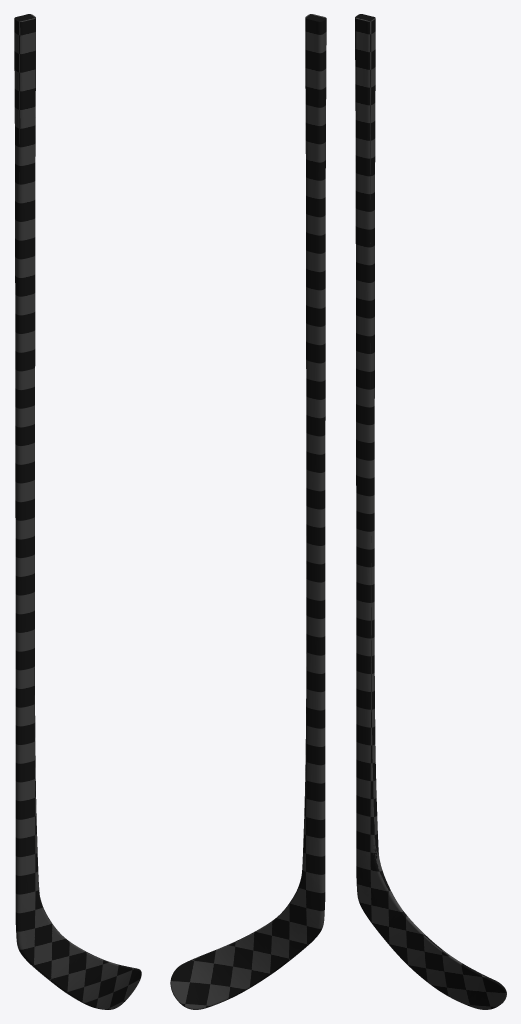
The model's file is P92B-SBO.glb.
3 renders of one model, left to right at view 1: azimuth 30°, elevation 25°; view 2: azimuth 150°, elevation 25°; view 3: azimuth 330°, elevation 25°, orthographic. The views are drawn at different scales.
Parts seen in each view (by area): view 1: geometry_0; view 2: geometry_0; view 3: geometry_0.
Part boxes in pixels (bbox=[...]): geometry_0: bbox=[14, 14, 141, 1009]; geometry_0: bbox=[170, 14, 326, 1009]; geometry_0: bbox=[355, 14, 506, 1009].
Bounding box in the file's own units: 236 × 1650 × 65.89.
Materials: 1 (1 with a texture image).
